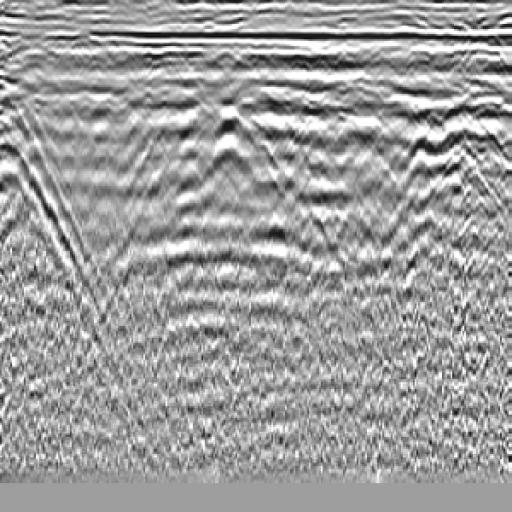metalic: (116, 67, 331, 324)
